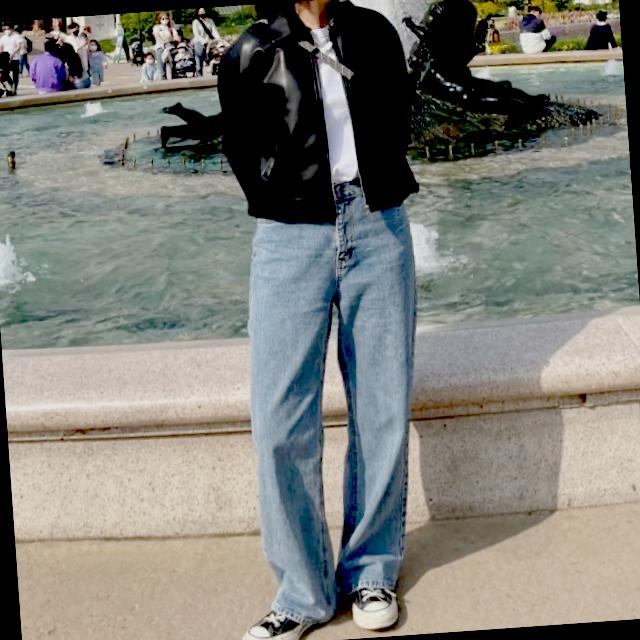denimpants: (232, 175, 436, 618)
jacket: (210, 0, 420, 232)
